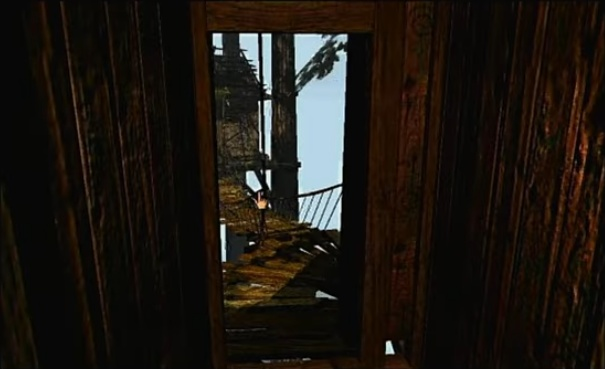Pointer: (250, 188, 273, 211)
